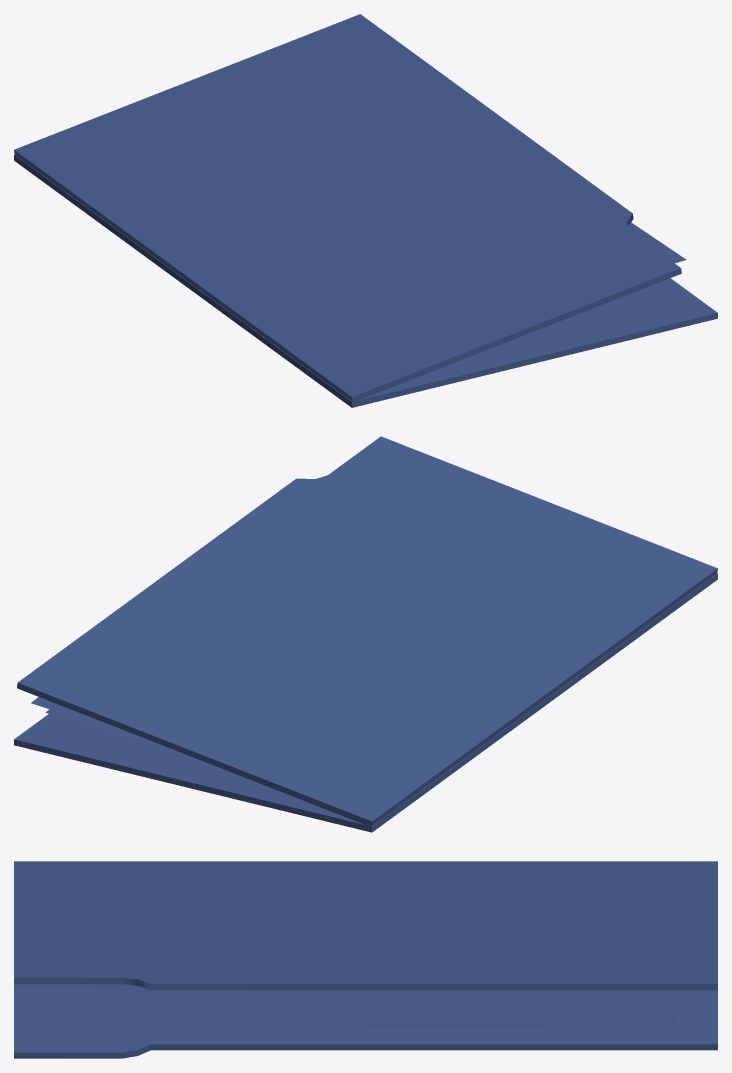
Rendered from Documentos 2 estudio.fbx.
3 renders of one model, top to bottom at view 1: azimuth 30°, elevation 25°; view 2: azimuth 150°, elevation 25°; view 3: azimuth 270°, elevation 25°, orthographic. The views are drawn at different scales.
Parts seen in each view (by area): view 1: pPlane7; view 2: pPlane7; view 3: pPlane7.
Boxes of the visible parts, <box> form: pPlane7: <box>14,14,717,407</box>; pPlane7: <box>14,436,717,832</box>; pPlane7: <box>14,861,717,1058</box>.
Bounding box in the file's own units: 19.1 × 3.03 × 29.89.
